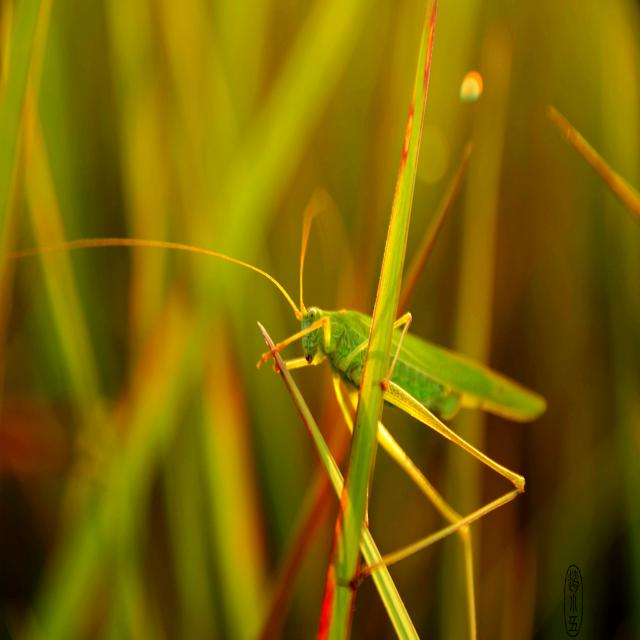ZhaMeng: (236, 227, 564, 488)
